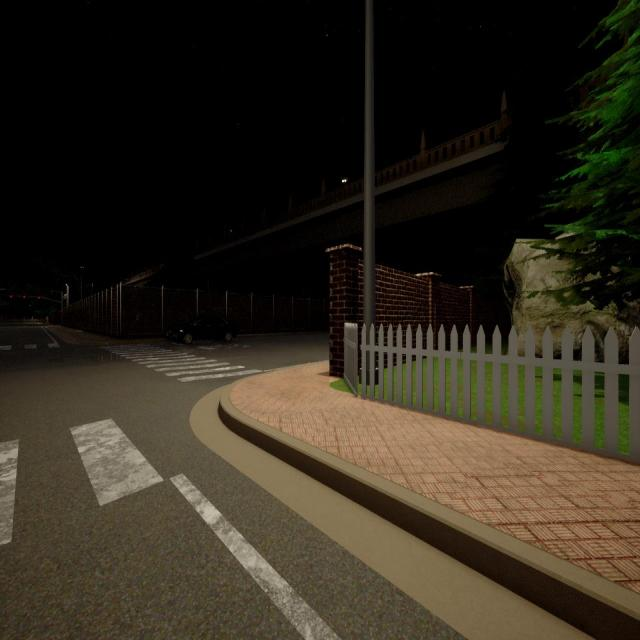Vehicle: (166, 314, 236, 346)
traffic_light: (10, 295, 12, 298), (38, 296, 40, 299), (24, 296, 25, 298)
